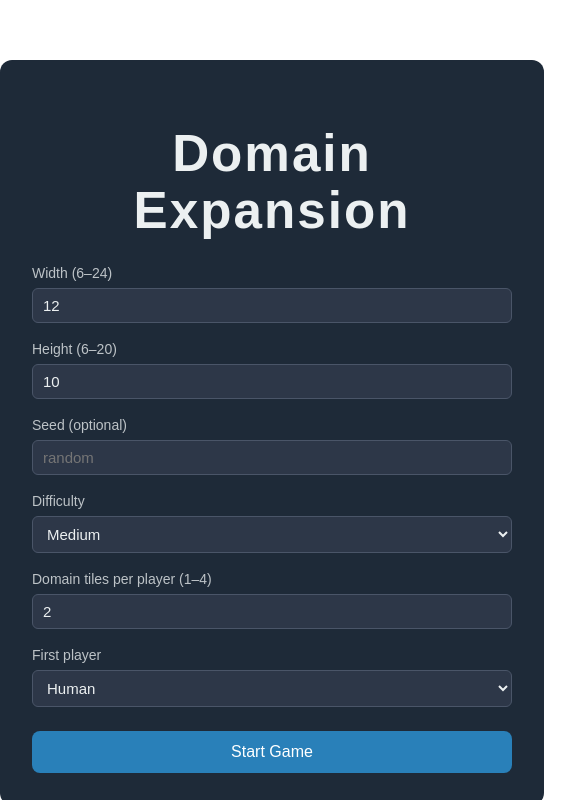
Test: HUD: score display › shows initial scores from game state
The width and height of the screenshot is (561, 800).
Click the button with test id "btn-start" at (272, 752), box [32, 731, 512, 773]
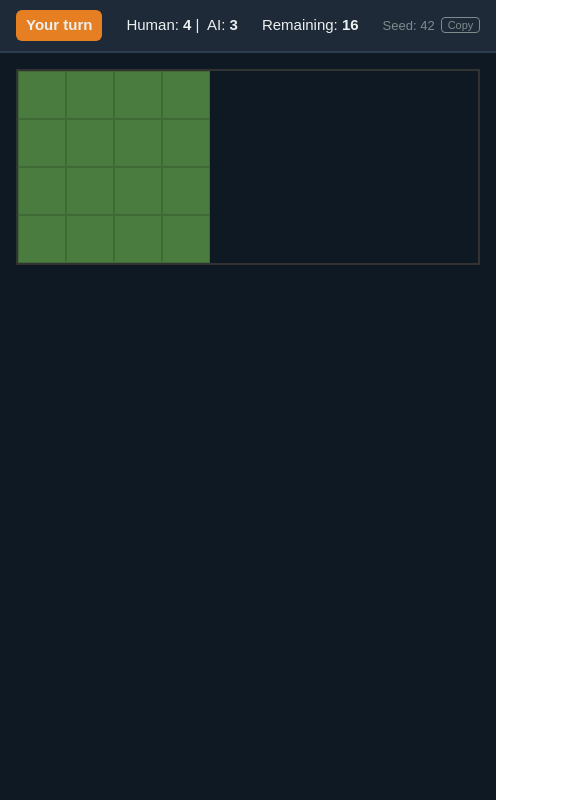
Now the element with test id "board" is shown, box [16, 68, 480, 264]
Now the element with test id "hud-scores" shows "Human: 4", box [126, 14, 238, 36]
Now the element with test id "hud-scores" shows "AI: 3", box [126, 14, 238, 36]
